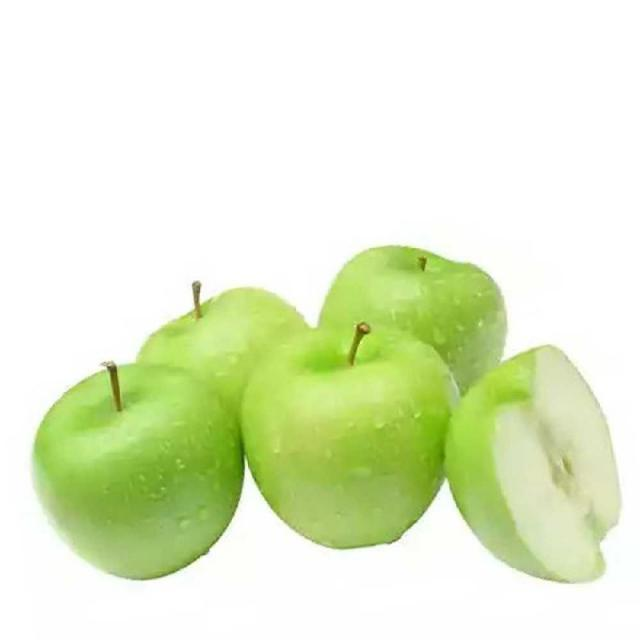Fresh Apple: (245, 327, 443, 548), (48, 364, 242, 564)
